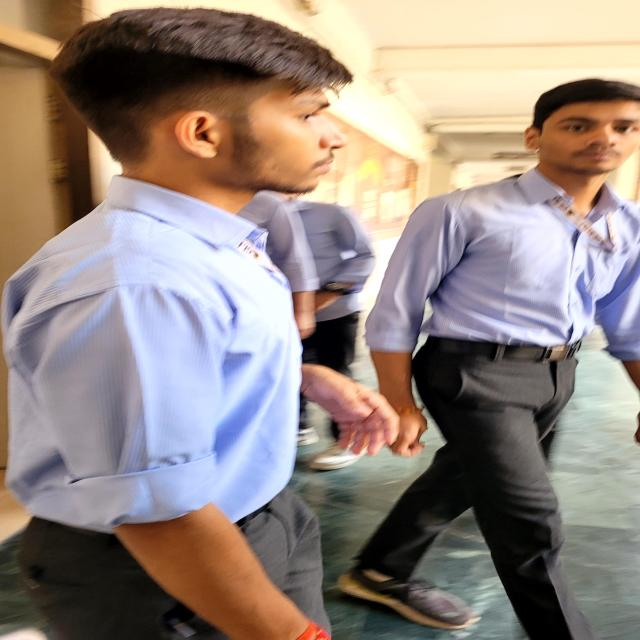unsafe: (4, 3, 384, 640), (356, 74, 639, 640)
